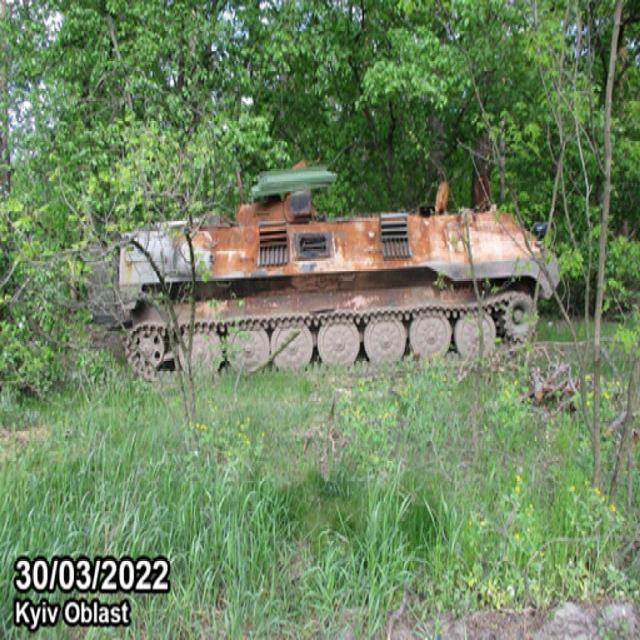APC-IFV: (114, 156, 558, 378)
